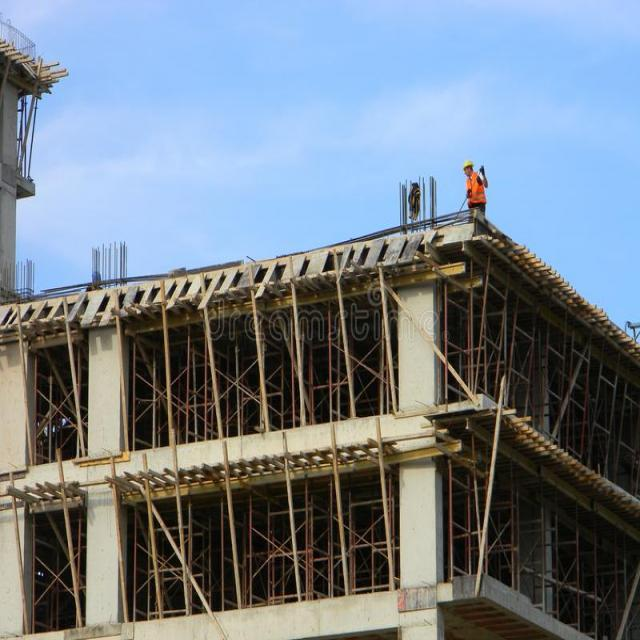Reflective-Jacket: (466, 173, 487, 207)
Safety-Helmet: (461, 157, 475, 173)
